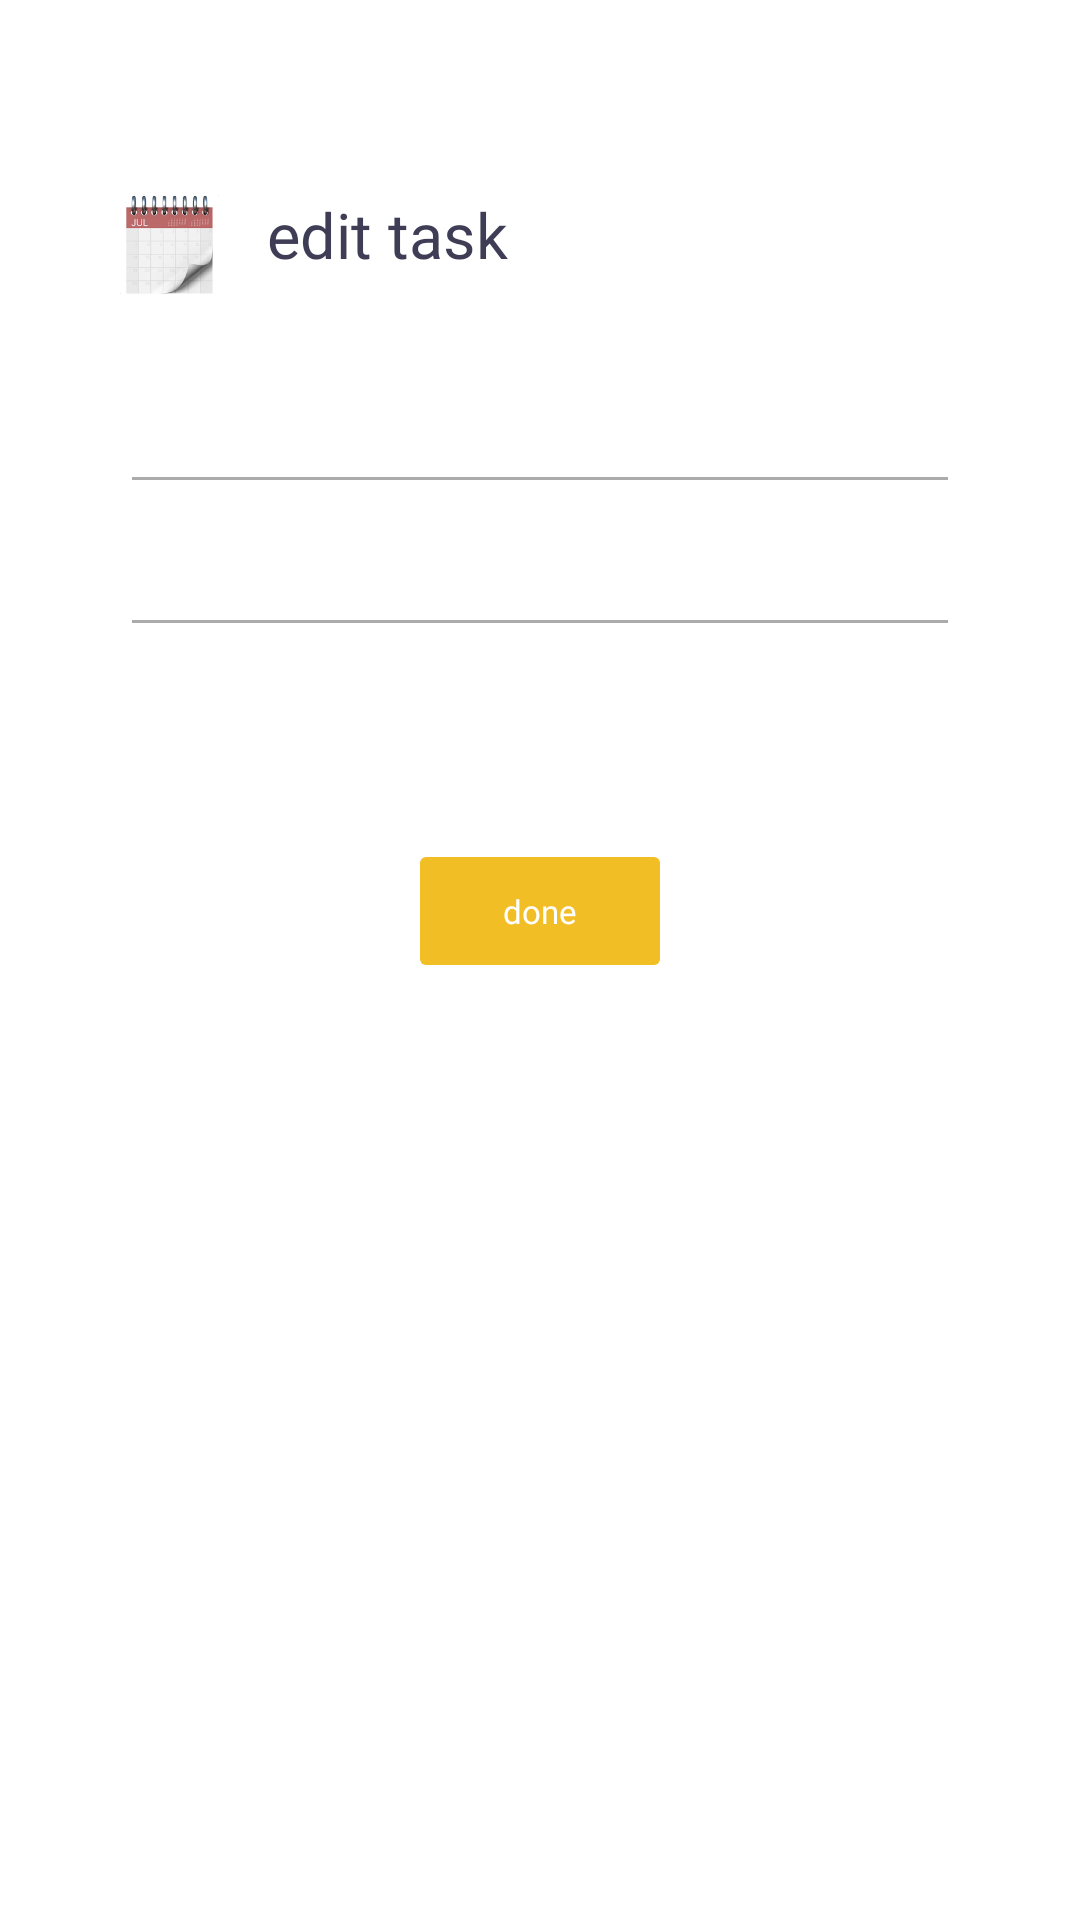

Locate icon controls on the screen. Image size 1080w x 1920h, boxes as (x1,y1,x2,y2).
calendar emoji: (120,195,219,294)
